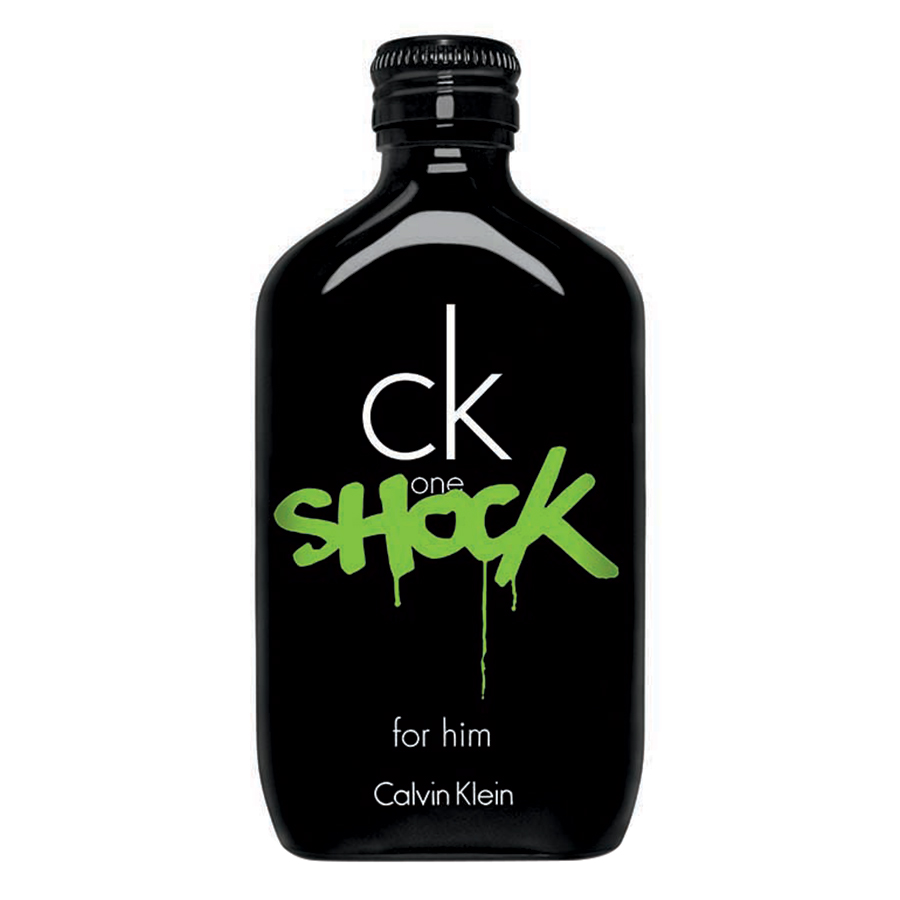Calvin Klein: (356, 299, 517, 467), (366, 770, 527, 814)
